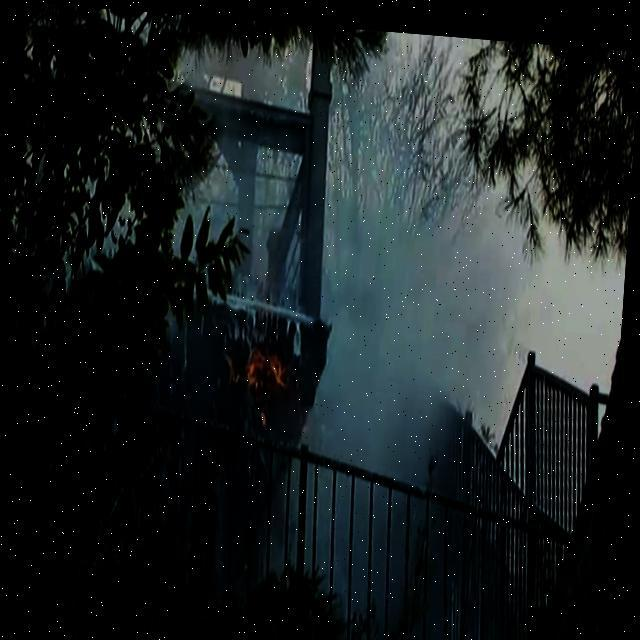Fire: (238, 324, 320, 390)
